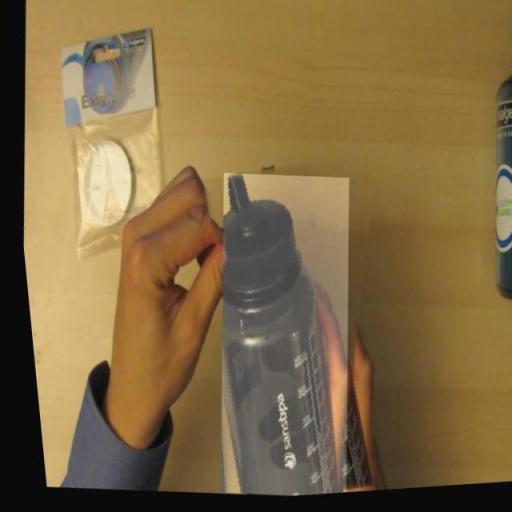bottle: (214, 176, 336, 499)
